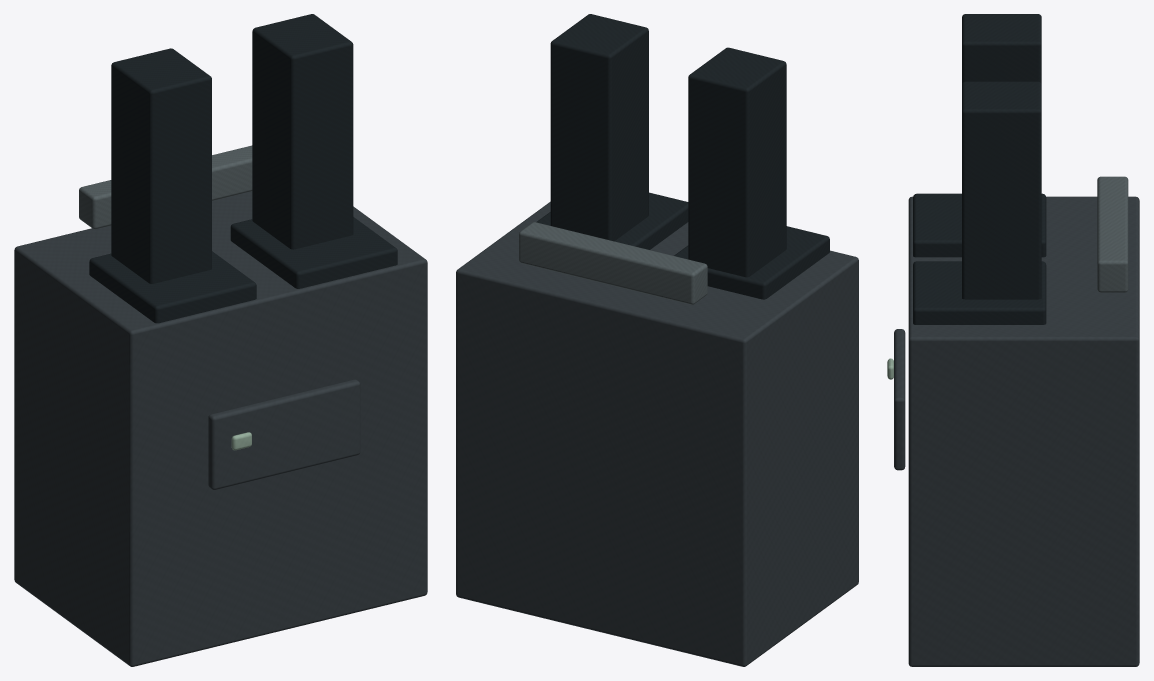
Rendered from PortableRadioCharger.fbx.
The picture shows the model from 3 angles, left to right: view 1: azimuth 30°, elevation 25°; view 2: azimuth 150°, elevation 25°; view 3: azimuth 270°, elevation 25°; orthographic projection. The views are drawn at different scales.
Parts seen in each view (by area): view 1: PortableRadioCharger_Mesh; view 2: PortableRadioCharger_Mesh; view 3: PortableRadioCharger_Mesh.
Boxes of the visible parts, x1,y1,x2,y2 form: PortableRadioCharger_Mesh: [14, 14, 427, 666]; PortableRadioCharger_Mesh: [456, 14, 858, 666]; PortableRadioCharger_Mesh: [887, 14, 1139, 666].
Size of the model in its own units: 76 by 133 by 56.75.
4 materials, 4 textured.
